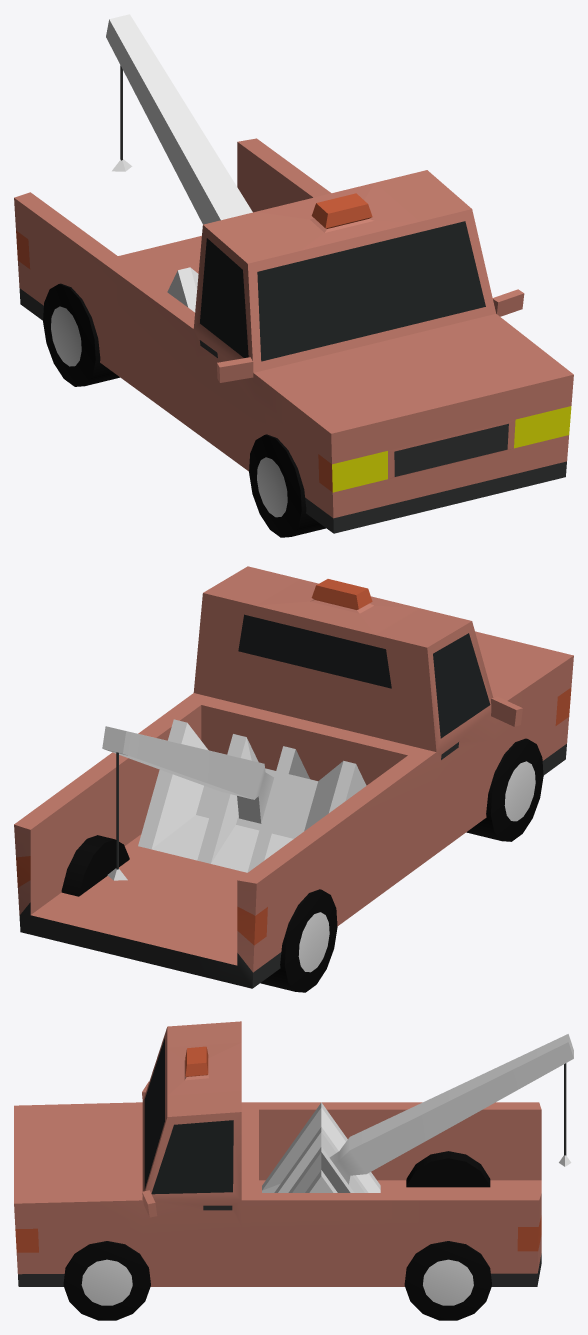
Rendered from TowTruck1.fbx.
3 renders of one model, top to bottom at view 1: azimuth 30°, elevation 25°; view 2: azimuth 150°, elevation 25°; view 3: azimuth 270°, elevation 25°, orthographic. The views are drawn at different scales.
Visible parts, largest first — view 1: Body1, Tow, WheelRL2, WheelRL4, pCube3; view 2: Body1, Tow, WheelRL2, WheelRL4, WheelRL1, pCube3; view 3: Body1, Tow, WheelRL1, WheelRL3, WheelRL2.
Part boxes in pixels (box(x1,y1,x2,y2)): Body1: box(14, 138, 573, 533); Tow: box(106, 14, 252, 312); WheelRL2: box(43, 283, 119, 386); WheelRL4: box(249, 434, 325, 537); pCube3: box(217, 357, 253, 382); Body1: box(14, 566, 573, 988); Tow: box(102, 719, 366, 880); WheelRL2: box(260, 889, 337, 992); WheelRL4: box(466, 738, 543, 841); WheelRL1: box(61, 835, 129, 896); pCube3: box(491, 696, 522, 726); Body1: box(14, 1021, 541, 1286); Tow: box(262, 1034, 573, 1192); WheelRL1: box(404, 1241, 491, 1320); WheelRL3: box(63, 1241, 150, 1320); WheelRL2: box(406, 1151, 490, 1187).
Bounding box in the file's own units: 3.38 × 3.01 × 6.51.
